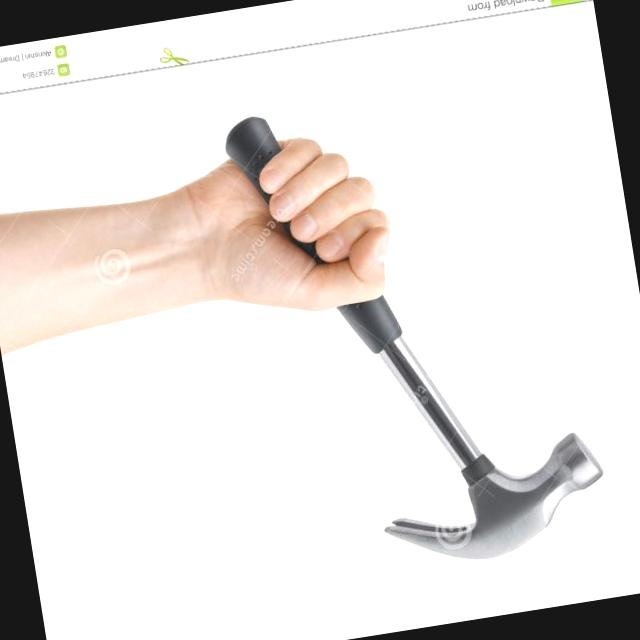hammer: (339, 297, 603, 558), (226, 120, 279, 187)
